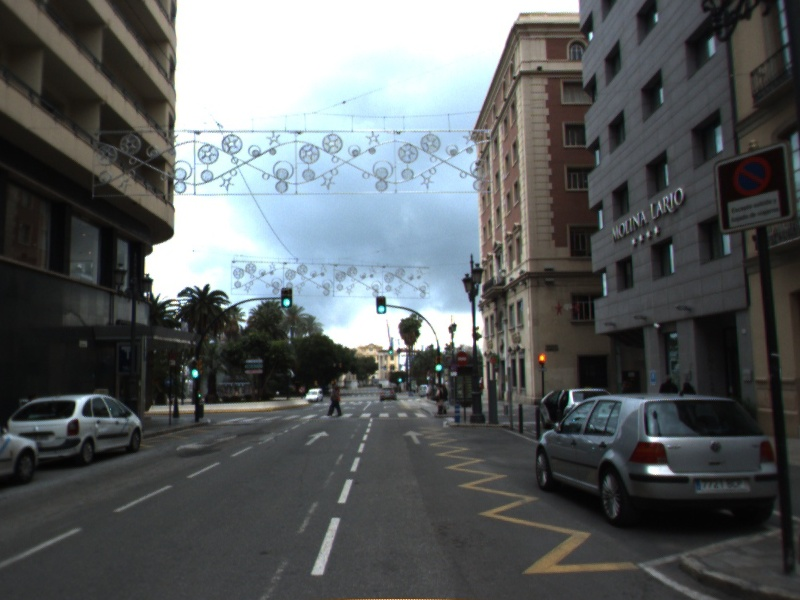STRAIGHT: (303, 429, 332, 447), (400, 428, 426, 446)
STRAIGHT_LEFT: (174, 433, 238, 453)
